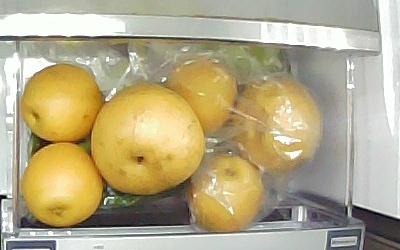pear: (88, 82, 205, 196), (20, 143, 102, 227), (19, 63, 103, 143)
pear_vinyl: (235, 79, 321, 172), (189, 154, 266, 236), (165, 57, 236, 139)
